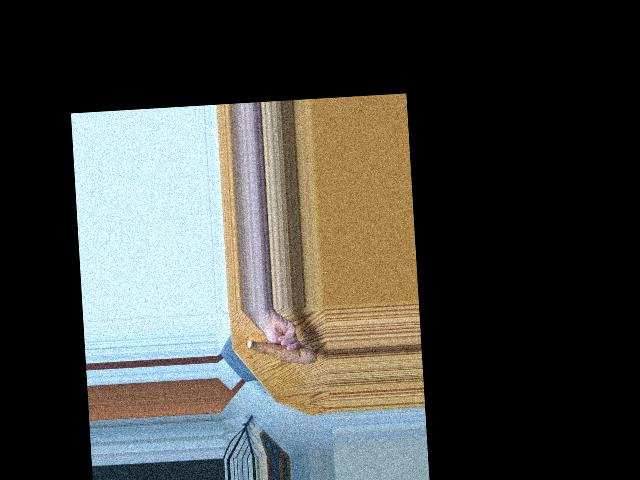sweet_potato: (245, 334, 315, 370)
